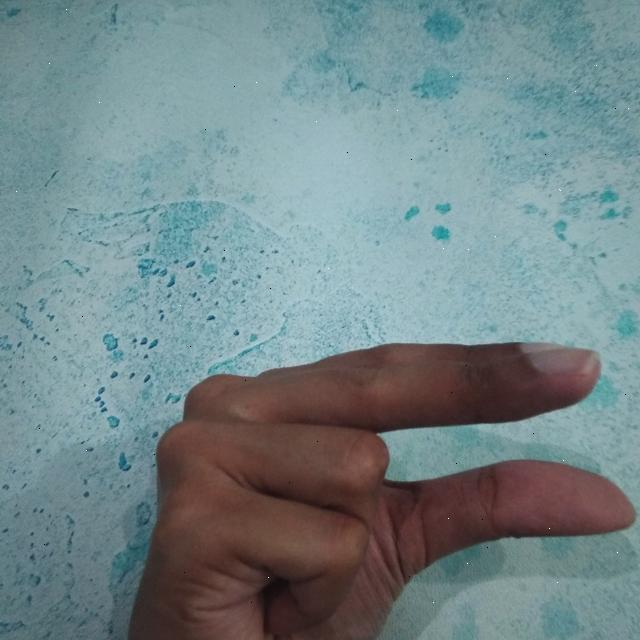G: (128, 336, 640, 640)
